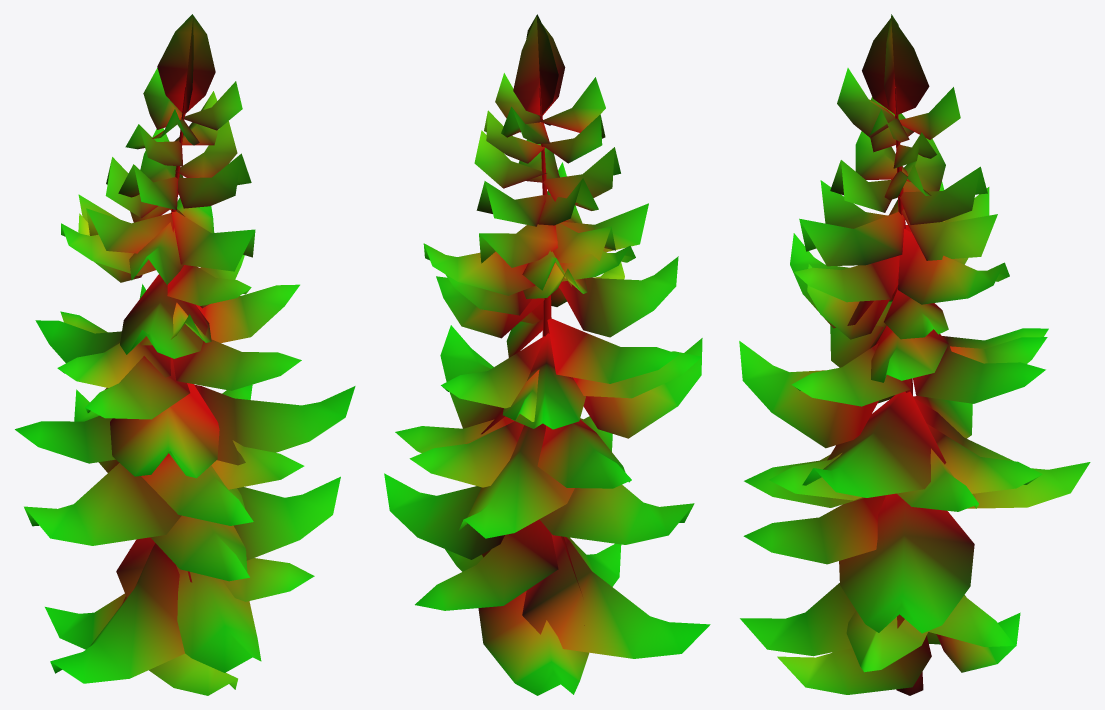
Rendered from Spruce_Small_5_LOD_1.fbx.
3 renders of one model, left to right at view 1: azimuth 30°, elevation 25°; view 2: azimuth 150°, elevation 25°; view 3: azimuth 270°, elevation 25°, orthographic. The views are drawn at different scales.
Visible parts, largest first — view 1: Spruce_Small_5_LOD_1; view 2: Spruce_Small_5_LOD_1; view 3: Spruce_Small_5_LOD_1.
Boxes of the visible parts, left/top/right/bottom form: Spruce_Small_5_LOD_1: left=15, top=14, right=355, bottom=695; Spruce_Small_5_LOD_1: left=384, top=14, right=710, bottom=695; Spruce_Small_5_LOD_1: left=739, top=14, right=1090, bottom=695.
Bounding box in the file's own units: 2.1 × 4.16 × 1.94.
